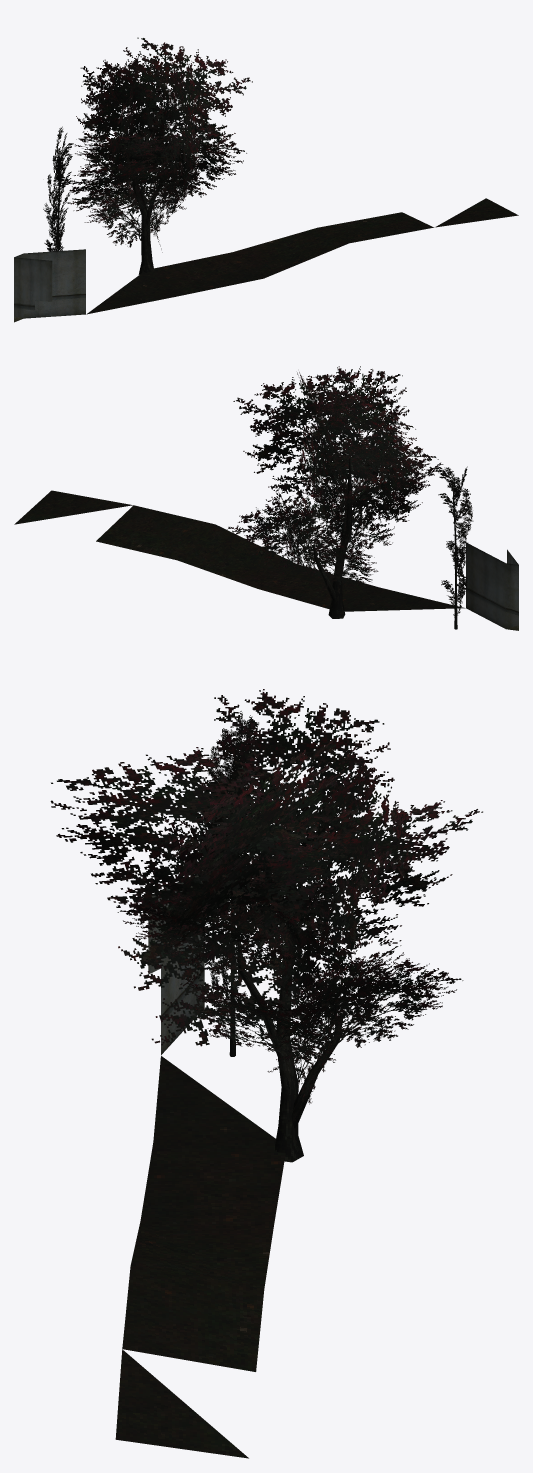
The model's file is cell_14_-6.gltf.
3 renders of one model, top to bottom at view 1: azimuth 30°, elevation 25°; view 2: azimuth 150°, elevation 25°; view 3: azimuth 270°, elevation 25°, orthographic. The views are drawn at different scales.
Visible parts, largest first — view 1: cell_14_-6; view 2: cell_14_-6; view 3: cell_14_-6.
Boxes of the visible parts, x1=… form: cell_14_-6: x1=14, y1=37, x2=518, y2=322; cell_14_-6: x1=14, y1=366, x2=518, y2=630; cell_14_-6: x1=50, y1=689, x2=482, y2=1458.
Size of the model in its own units: 59.53 by 28.57 by 27.99.
Materials: 6 (6 with a texture image).
